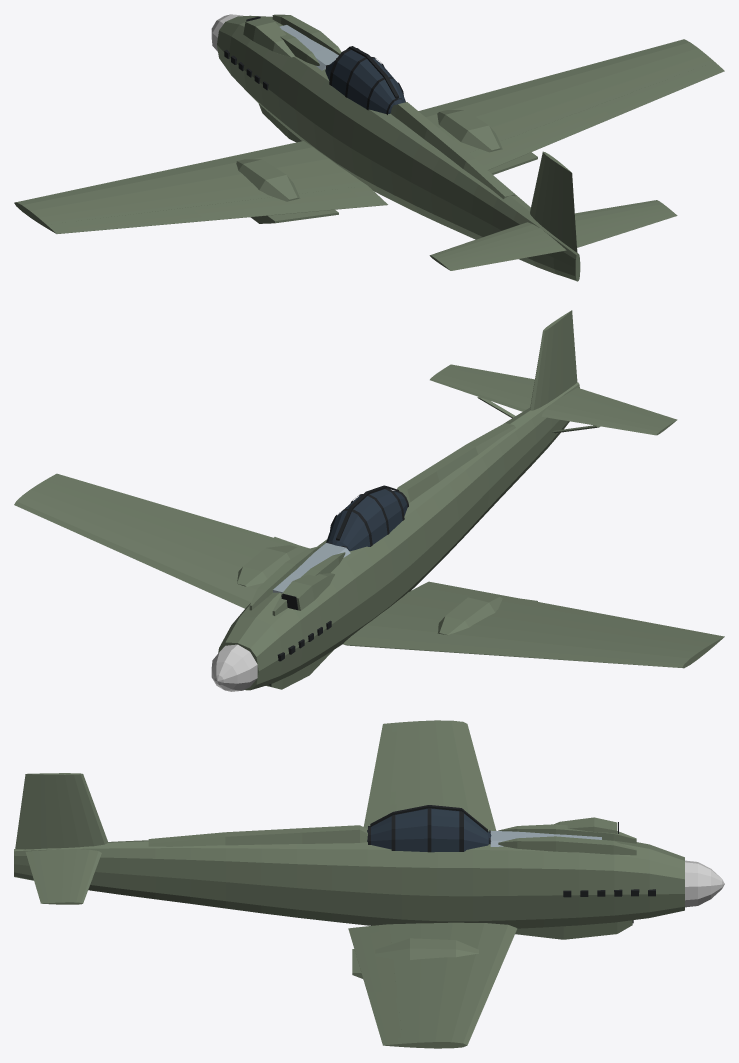
The picture shows the model from 3 angles, top to bottom: view 1: azimuth 30°, elevation 25°; view 2: azimuth 150°, elevation 25°; view 3: azimuth 270°, elevation 25°; orthographic projection.
Visible parts, largest first — view 1: Fuselage, Wing L, Wing R, Wheel Bulges, Flap L, Cockpit Glass, Spine Fairing, Flap R, Stabilizer L, Vertical Fin, Aileron R, Stabilizer R (+9 smaller); view 2: Fuselage, Wing L, Wing R, Wheel Bulges, Cockpit Glass, Stabilizer L, Vertical Fin, Spine Fairing, Stabilizer R, Spinner, Flap L, Cowl Gun Bulges (+9 smaller); view 3: Fuselage, Wing R, Wing L, Cockpit Glass, Vertical Fin, Spine Fairing, Cowl Gun Bulges, Stabilizer R, Rudder, Flap R, Wheel Bulges, Aileron L (+7 smaller).
Boxes of the visible parts, bbox=[...] form: Fuselage: bbox=[217, 15, 580, 281]; Wing L: bbox=[14, 141, 387, 233]; Wing R: bbox=[418, 39, 724, 152]; Wheel Bulges: bbox=[236, 110, 502, 201]; Flap L: bbox=[191, 188, 368, 220]; Cockpit Glass: bbox=[325, 50, 405, 113]; Spine Fairing: bbox=[390, 102, 515, 198]; Flap R: bbox=[469, 113, 591, 170]; Stabilizer L: bbox=[429, 222, 552, 266]; Vertical Fin: bbox=[530, 151, 562, 237]; Aileron R: bbox=[598, 67, 709, 117]; Stabilizer R: bbox=[575, 200, 669, 232]; Fuselage: bbox=[218, 382, 579, 690]; Wing L: bbox=[343, 581, 724, 668]; Wing R: bbox=[14, 473, 263, 608]; Wheel Bulges: bbox=[237, 545, 502, 635]; Cockpit Glass: bbox=[326, 489, 407, 551]; Stabilizer L: bbox=[541, 395, 670, 435]; Vertical Fin: bbox=[530, 317, 562, 410]; Spine Fairing: bbox=[397, 423, 515, 503]; Stabilizer R: bbox=[430, 369, 533, 411]; Spinner: bbox=[211, 644, 257, 691]; Flap L: bbox=[427, 585, 591, 619]; Cowl Gun Bulges: bbox=[249, 546, 345, 615]; Fuselage: bbox=[14, 839, 684, 928]; Wing R: bbox=[348, 922, 517, 1048]; Wing L: bbox=[367, 720, 496, 831]; Cockpit Glass: bbox=[367, 808, 491, 852]; Vertical Fin: bbox=[46, 773, 108, 848]; Spine Fairing: bbox=[148, 825, 367, 846]; Cowl Gun Bulges: bbox=[498, 824, 636, 855]; Stabilizer R: bbox=[51, 849, 101, 904]; Rudder: bbox=[15, 773, 49, 849]; Flap R: bbox=[350, 931, 396, 992]; Wheel Bulges: bbox=[375, 938, 478, 960]; Aileron L: bbox=[370, 731, 402, 793].
Size of the model in its own units: 9.9 by 2.31 by 9.25.
